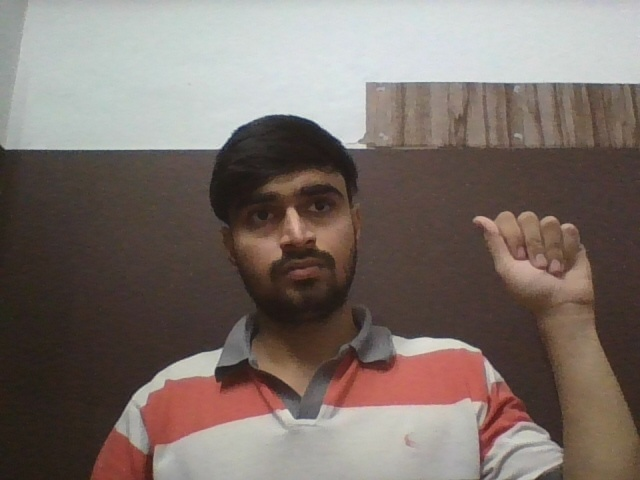A: (472, 211, 595, 308)
